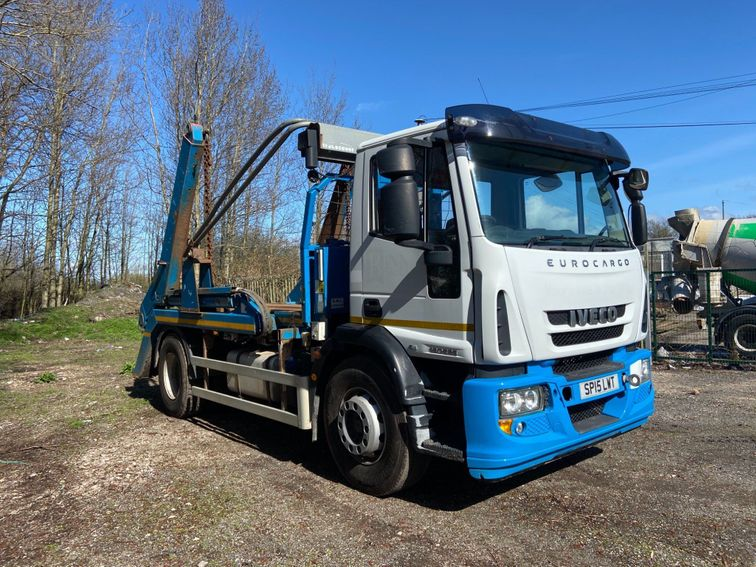Semi: (131, 103, 656, 495)
